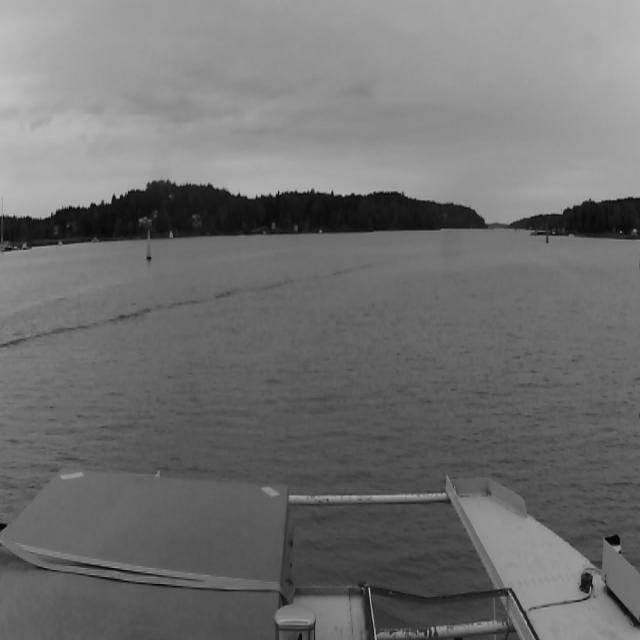buoy: (146, 230, 152, 260), (546, 232, 548, 243)
ship: (169, 231, 173, 238)
